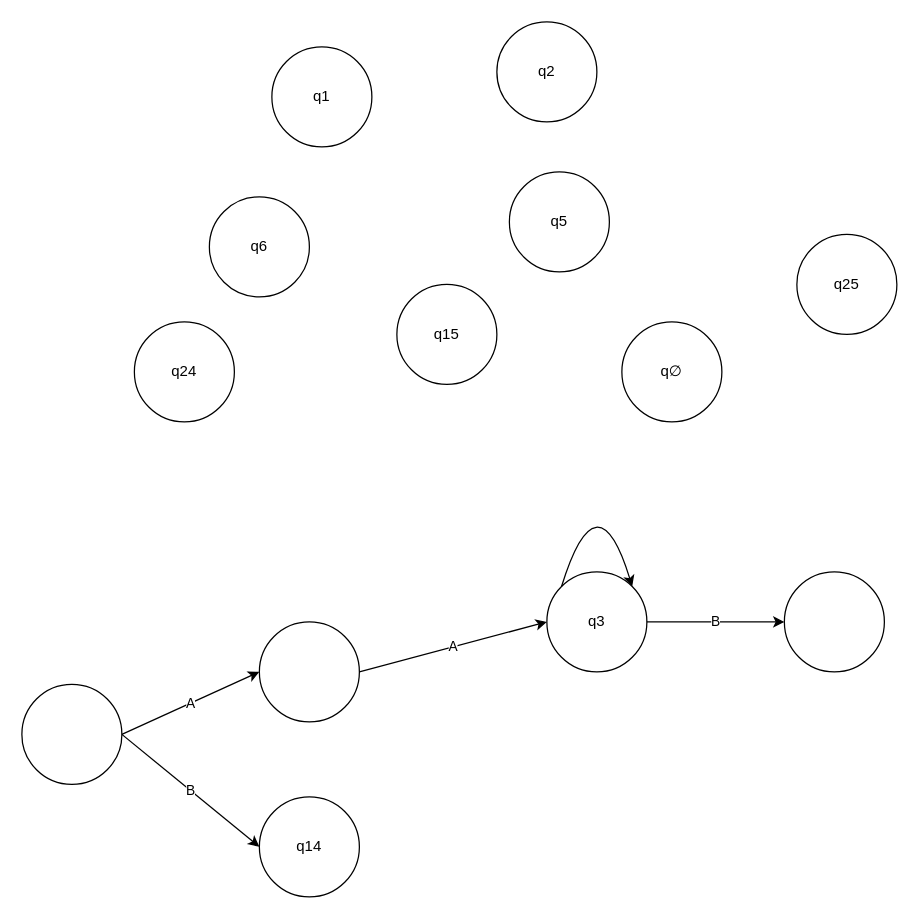
This 919x919 diagram has some shape labels left out. Each missing label, with the box of its shape:
q0: (21, 683, 122, 784)
q23: (258, 621, 359, 722)
q4: (783, 571, 884, 672)
